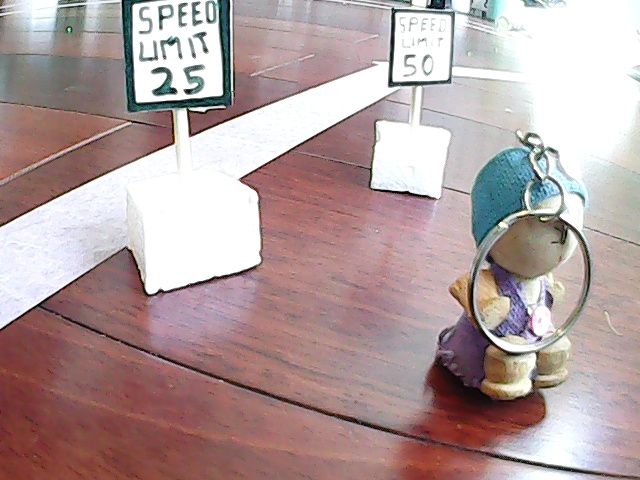pedestrain: (461, 138, 595, 408)
speed_25: (113, 1, 273, 291)
speed_50: (365, 3, 460, 204)
